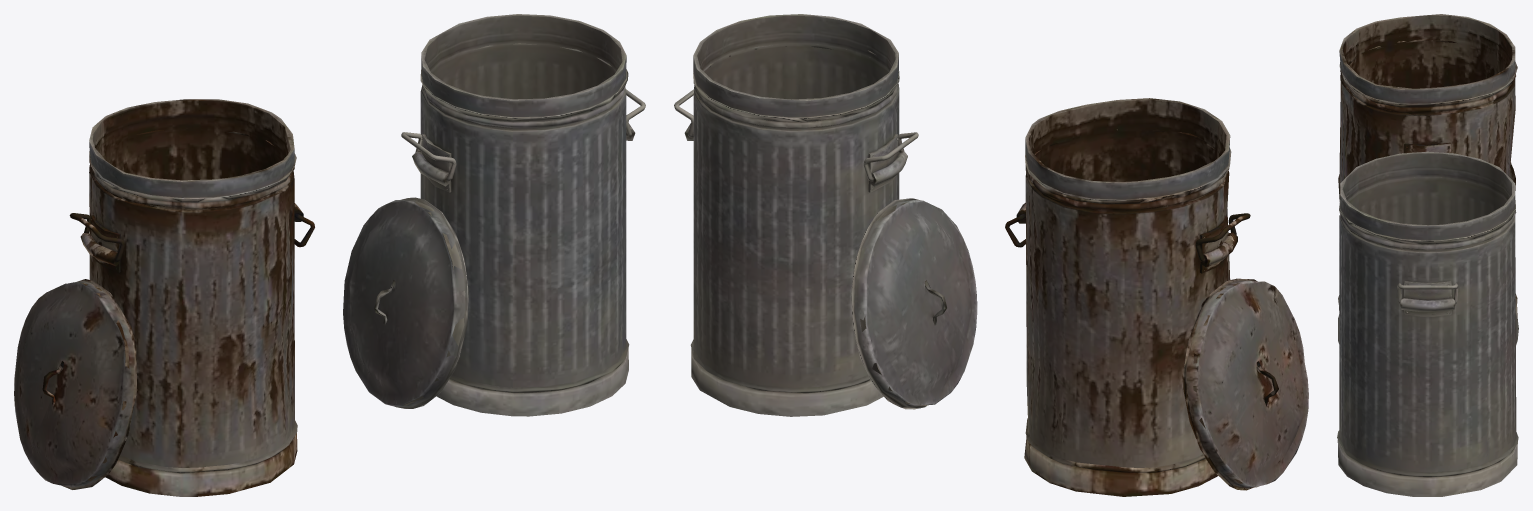
File: metal_trash_can.glb
The picture shows the model from 3 angles, left to right: view 1: azimuth 30°, elevation 25°; view 2: azimuth 150°, elevation 25°; view 3: azimuth 270°, elevation 25°; orthographic projection. The views are drawn at different scales.
Visible parts, largest first — view 1: metal_trash_can, metal_trash_can_rust, metal_trash_can_lid, metal_trash_can_rust_lid; view 2: metal_trash_can, metal_trash_can_rust, metal_trash_can_lid, metal_trash_can_rust_lid; view 3: metal_trash_can, metal_trash_can_rust, metal_trash_can_handle_right.
Part boxes in pixels (<box>): metal_trash_can: <box>412,14,635,416</box>; metal_trash_can_rust: <box>80,99,303,496</box>; metal_trash_can_lid: <box>343,197,468,408</box>; metal_trash_can_rust_lid: <box>14,279,137,489</box>; metal_trash_can: <box>684,14,907,416</box>; metal_trash_can_rust: <box>1016,98,1237,496</box>; metal_trash_can_lid: <box>851,198,977,409</box>; metal_trash_can_rust_lid: <box>1183,278,1308,490</box>; metal_trash_can: <box>1337,151,1518,496</box>; metal_trash_can_rust: <box>1338,14,1517,319</box>; metal_trash_can_handle_right: <box>1397,283,1458,303</box>.
Bounding box in the file's own units: 1.78 × 0.9062 × 0.5533.
2 materials, 2 textured.
